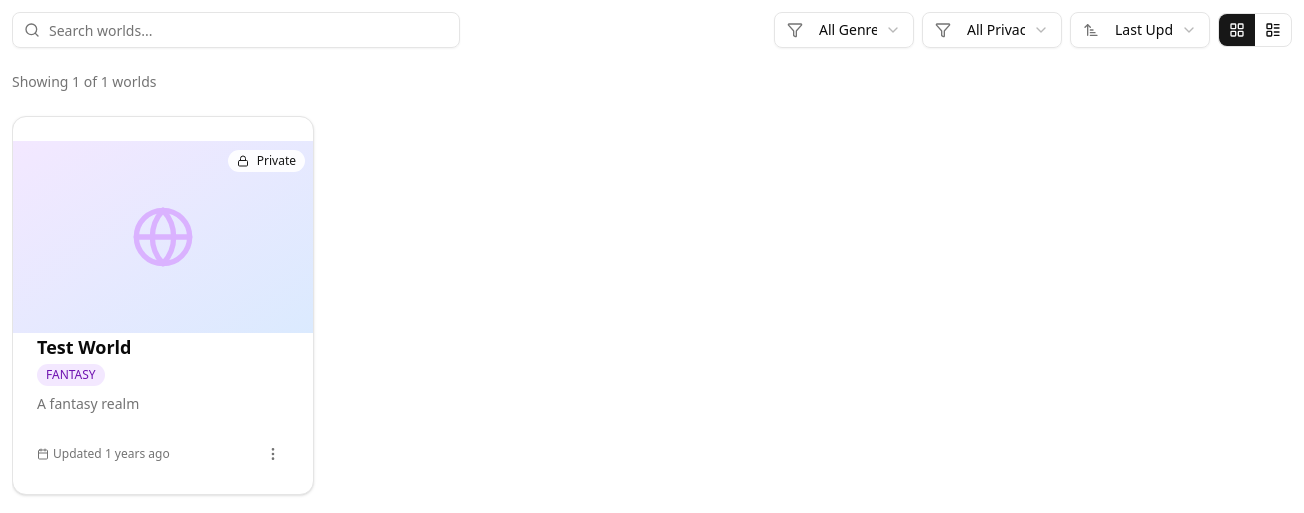
Test: WorldsList › Filtering › shows clear filters button when filters are active
In the field with placeholder "Search worlds...": (236, 30) [12,12,460,48], type "test"
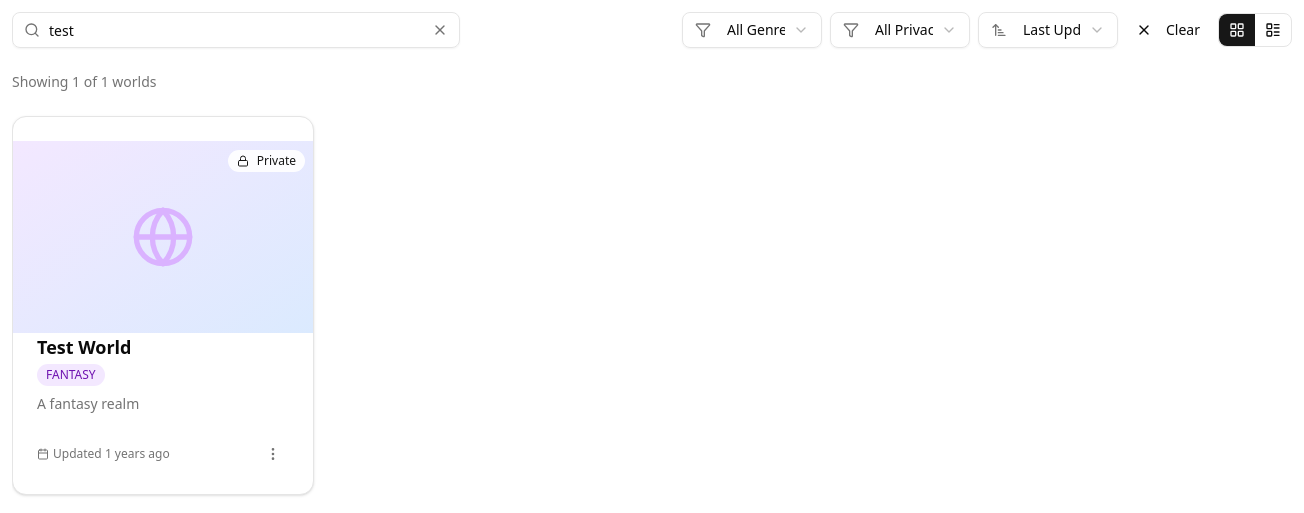
Expected: the button "Clear" is shown
Click the button "Clear": (1168, 30) [1126,14,1210,46]
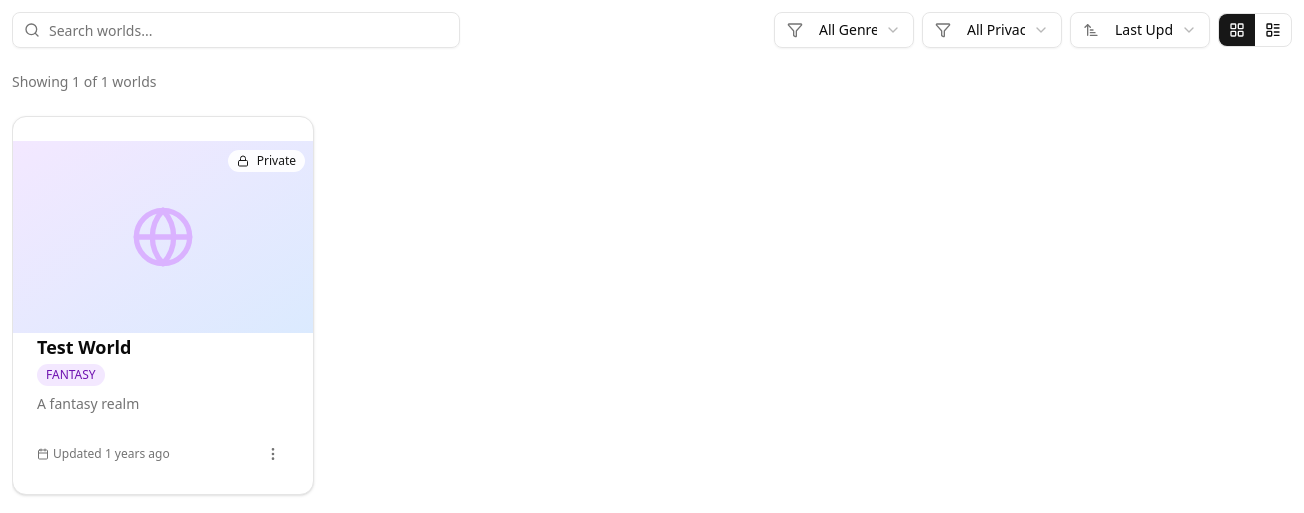
Expected: the field with placeholder "Search worlds..." is empty, [12,12,460,48]
